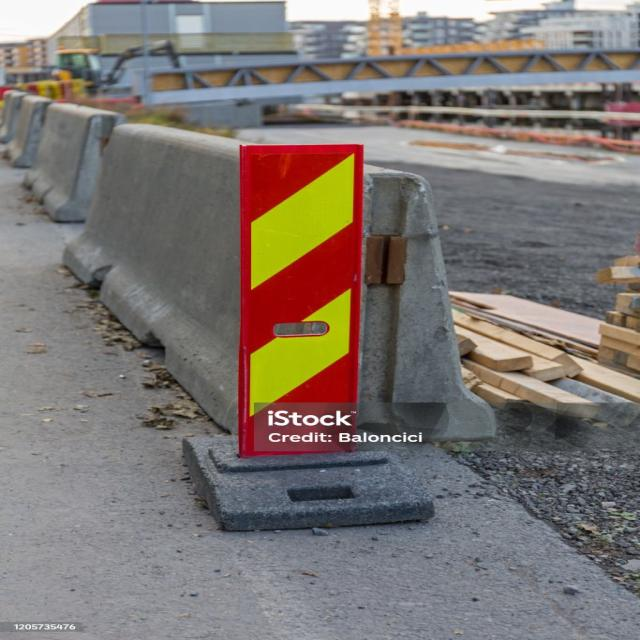cone: (0, 56, 478, 570)
